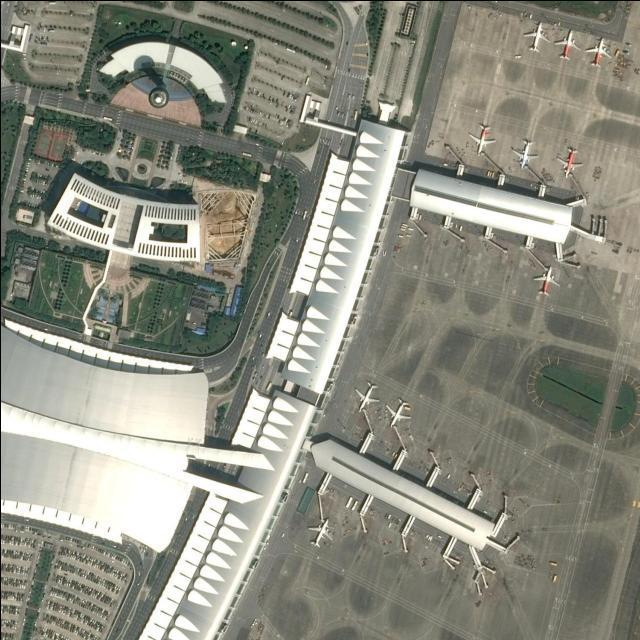Aircraft: (466, 122, 496, 154), (583, 34, 611, 68), (510, 136, 538, 168), (552, 28, 580, 60), (353, 378, 379, 412), (556, 145, 582, 179), (384, 396, 412, 427), (532, 264, 559, 296), (522, 18, 549, 50), (307, 516, 332, 546)
